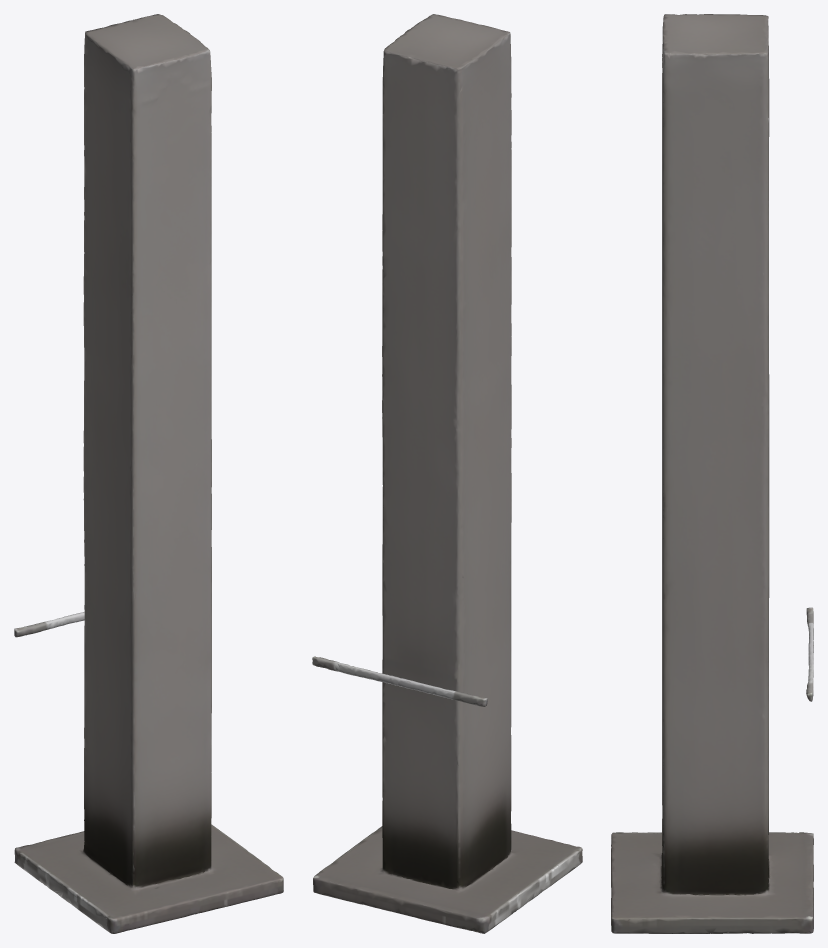
File: vertical_post.glb
3 renders of one model, left to right at view 1: azimuth 30°, elevation 25°; view 2: azimuth 150°, elevation 25°; view 3: azimuth 270°, elevation 25°, orthographic. The views are drawn at different scales.
Visible parts, largest first — view 1: model; view 2: model; view 3: model.
Boxes of the visible parts, x1=… form: model: x1=14, y1=14, x2=283, y2=933; model: x1=312, y1=14, x2=582, y2=933; model: x1=611, y1=14, x2=813, y2=933.
Bounding box in the file's own units: 0.4123 × 1.9 × 0.4084.
1 material, 1 textured.
